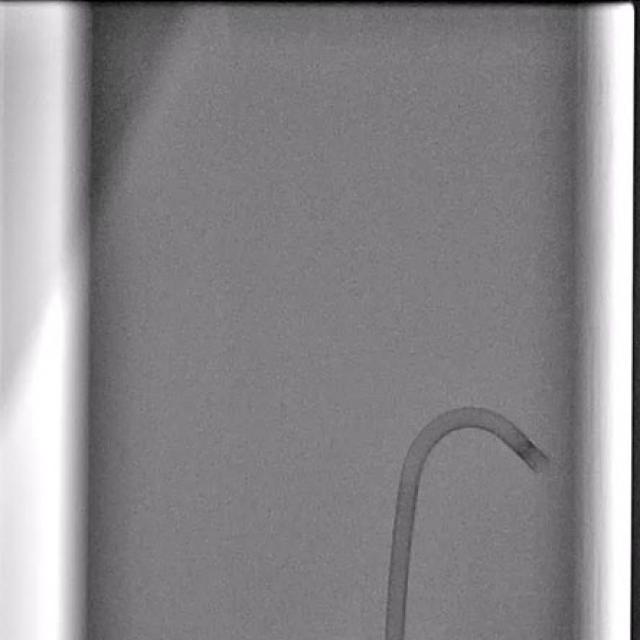bend: (398, 469, 424, 486)
entry: (385, 631, 403, 640)
marker: (515, 438, 537, 459)
tip: (536, 459, 552, 474)
